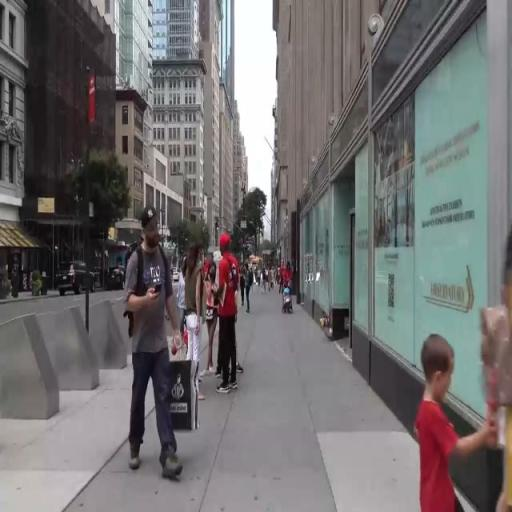person: (125, 223, 180, 486), (466, 214, 512, 512), (406, 331, 467, 512), (219, 239, 243, 405), (189, 236, 207, 397), (208, 262, 219, 385), (246, 263, 253, 307), (279, 257, 286, 291), (263, 264, 269, 300), (272, 265, 278, 300), (287, 264, 294, 292), (242, 261, 246, 297), (269, 268, 271, 295)
